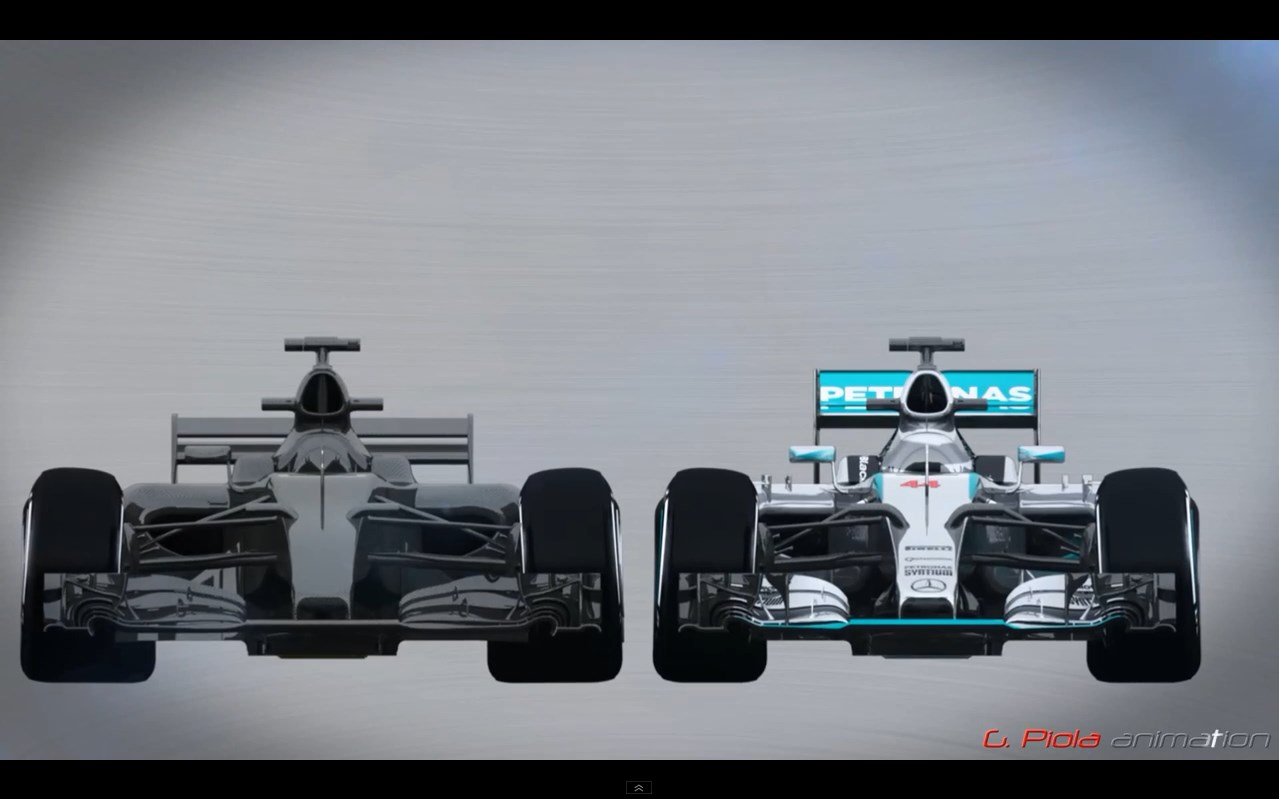f1_car: (8, 319, 631, 715), (634, 319, 1230, 717)
